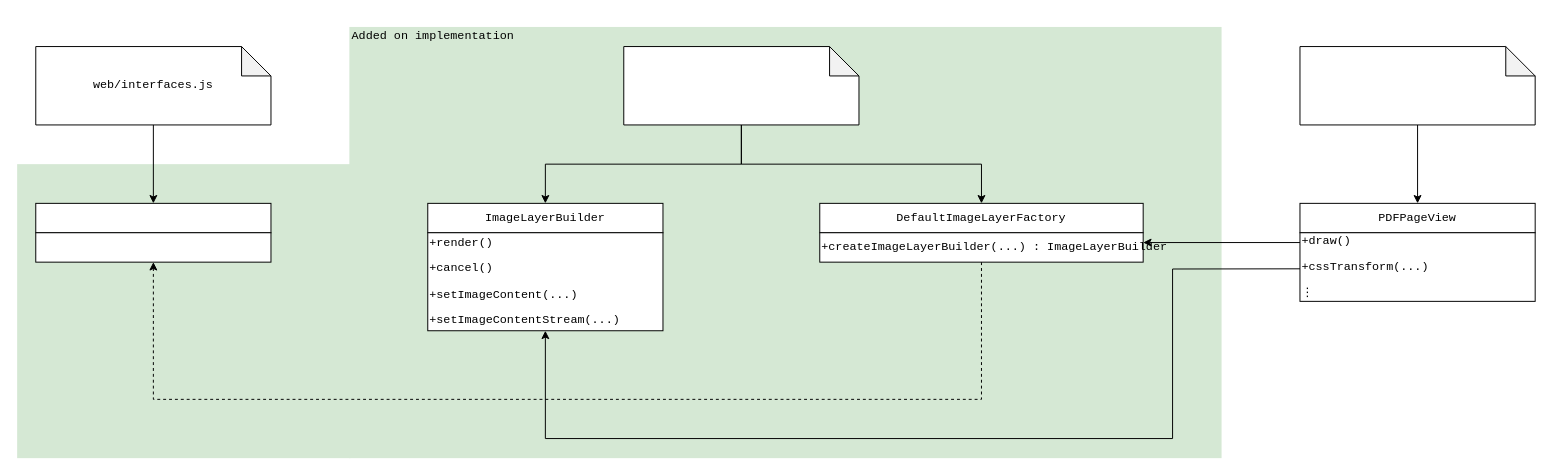
Some shapes in this 1552 by 474 pixel diagram are drawn without their labels. Each missing label, with the centre of its shape:
+createImageLayerBuilder(...): (153,247)
IPDFImageLayerFactory: (153,217)
web/image_layer_builder.js: (741,85)
web/pdf_page_view.js: (1417,85)
